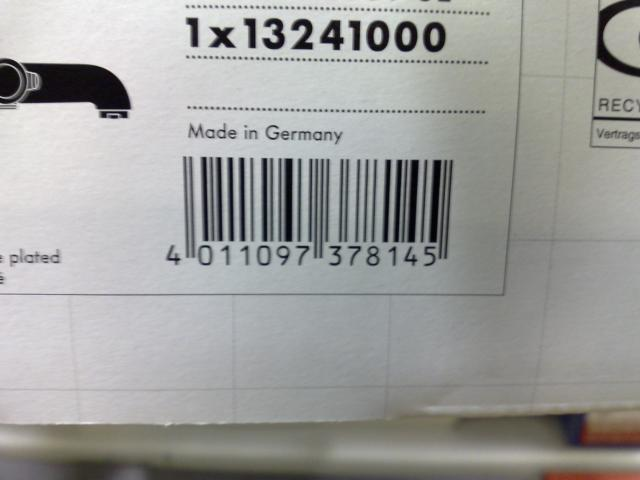Barcode: (155, 147, 474, 286)
